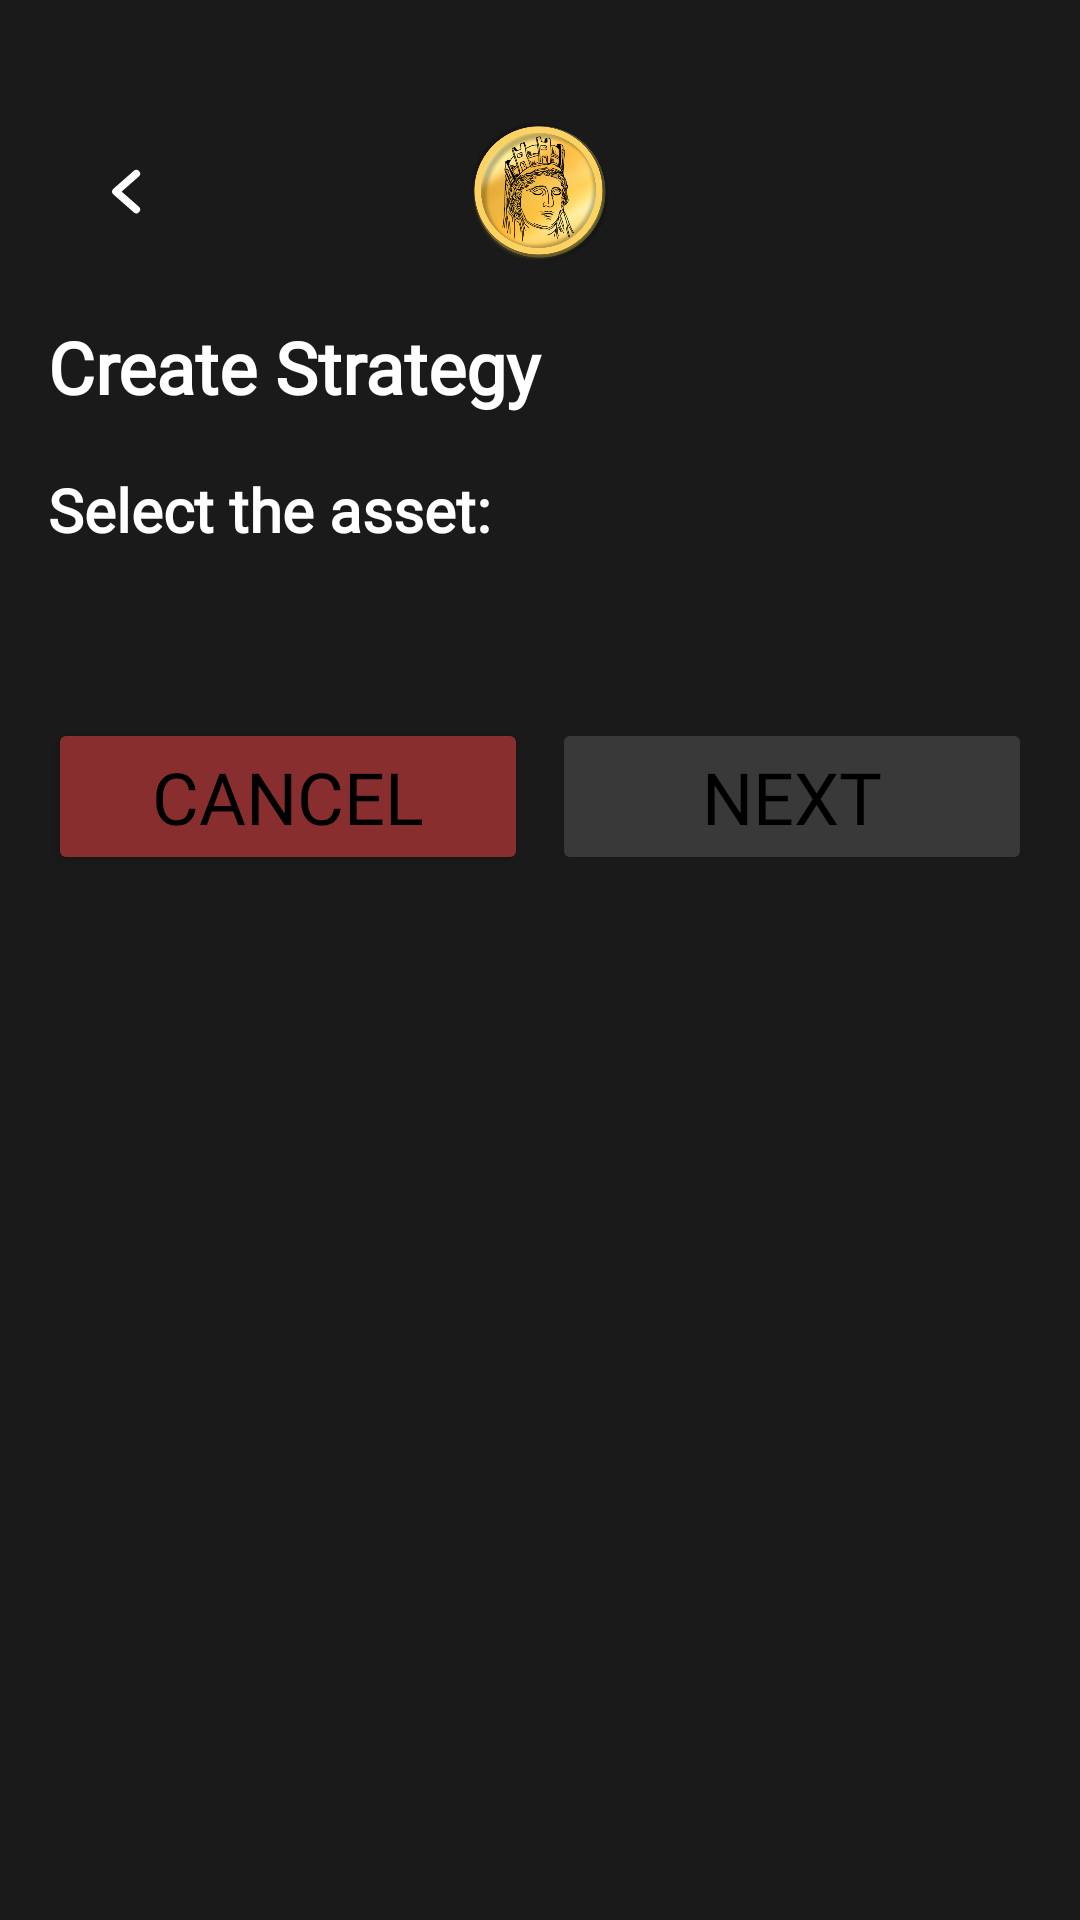

Icons on this 1080px×1920px Android screen, each with its box as (x1, y1, x2, y2):
caret left sm: (112, 169, 141, 214)
